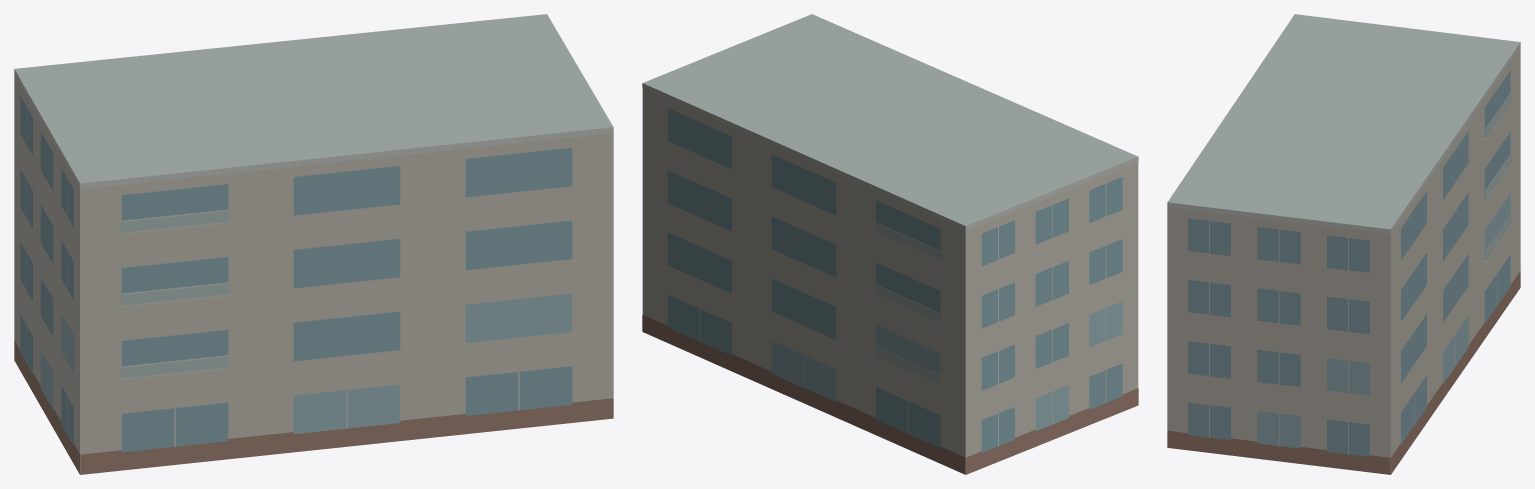
File: survey-upis-32734318.glb
The picture shows the model from 3 angles, left to right: view 1: azimuth 30°, elevation 25°; view 2: azimuth 150°, elevation 25°; view 3: azimuth 270°, elevation 25°; orthographic projection. The views are drawn at different scales.
Parts seen in each view (by area): view 1: survey-upis-32734318.tmp; view 2: survey-upis-32734318.tmp; view 3: survey-upis-32734318.tmp.
Part boxes in pixels (x1,y1,x2,y2): survey-upis-32734318.tmp: [14, 14, 613, 474]; survey-upis-32734318.tmp: [642, 14, 1138, 474]; survey-upis-32734318.tmp: [1167, 14, 1520, 474].
Bounding box in the file's own units: 23.34 × 12.4 × 16.18.
